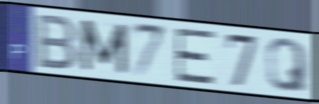7: (133, 21, 168, 81), (224, 31, 260, 89)
B: (35, 12, 81, 72)
E: (174, 27, 218, 86)
M: (78, 17, 130, 76)
Q: (265, 37, 311, 95)
